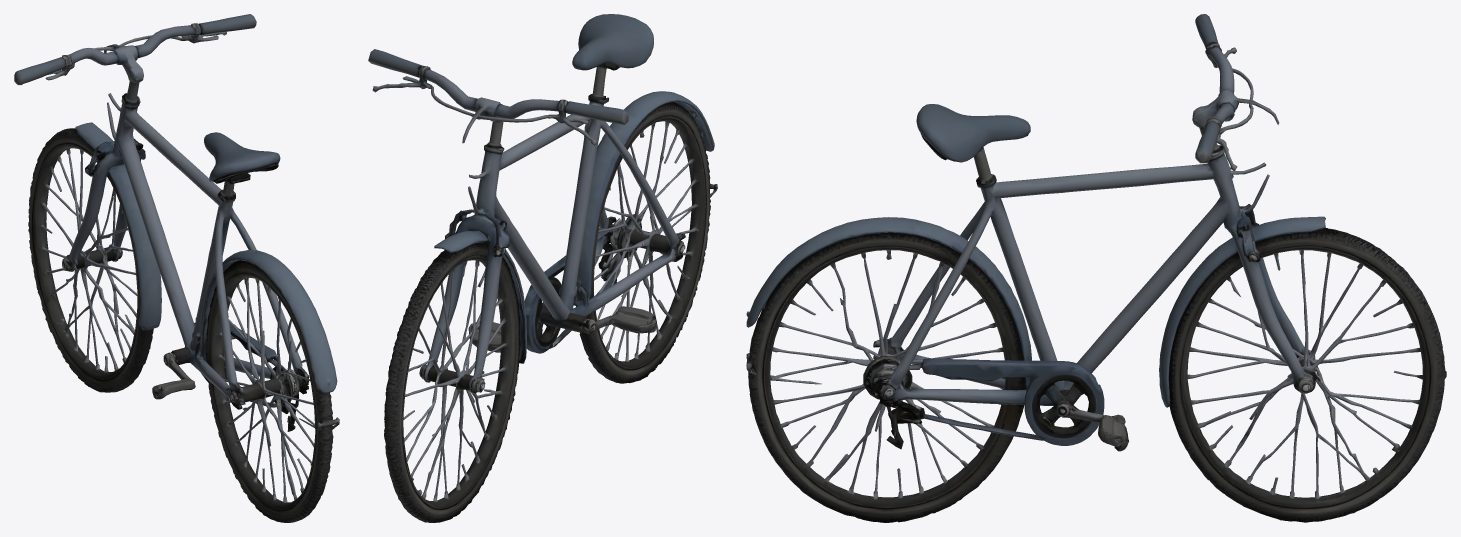
The model's file is bicycle-city.glb.
3 renders of one model, left to right at view 1: azimuth 30°, elevation 25°; view 2: azimuth 150°, elevation 25°; view 3: azimuth 270°, elevation 25°, orthographic. The views are drawn at different scales.
Visible parts, largest first — view 1: tripo_node_c4e5d7c5-bd90-459d-b9a6-3bc5280a8a4b; view 2: tripo_node_c4e5d7c5-bd90-459d-b9a6-3bc5280a8a4b; view 3: tripo_node_c4e5d7c5-bd90-459d-b9a6-3bc5280a8a4b.
Boxes of the visible parts, x1,y1,x2,y2 form: tripo_node_c4e5d7c5-bd90-459d-b9a6-3bc5280a8a4b: (14, 14, 339, 522); tripo_node_c4e5d7c5-bd90-459d-b9a6-3bc5280a8a4b: (368, 14, 717, 522); tripo_node_c4e5d7c5-bd90-459d-b9a6-3bc5280a8a4b: (746, 14, 1446, 522).
Size of the model in its own units: 0.7341 by 1.1 by 1.58.
Materials: 1 (1 with a texture image).
